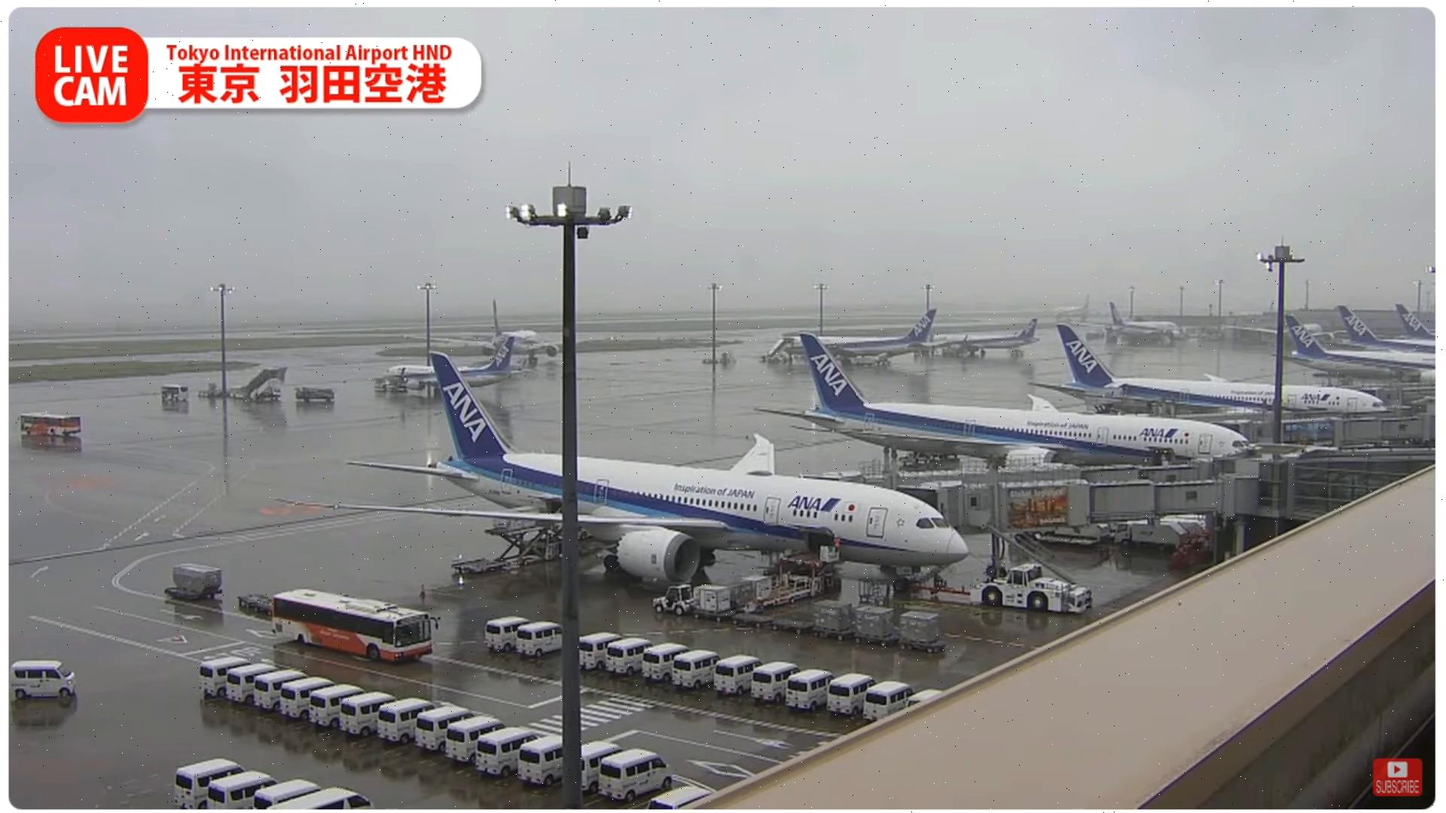APS: (968, 562, 1094, 614)
Aerobridge: (892, 474, 1261, 535), (796, 455, 1210, 487)
Airplane: (270, 351, 970, 592)
Dolly: (693, 601, 947, 653), (165, 584, 224, 601)
JCPL: (451, 522, 563, 573), (744, 552, 838, 607)
Tractor: (653, 583, 701, 615)
Window: (1292, 458, 1433, 516)
